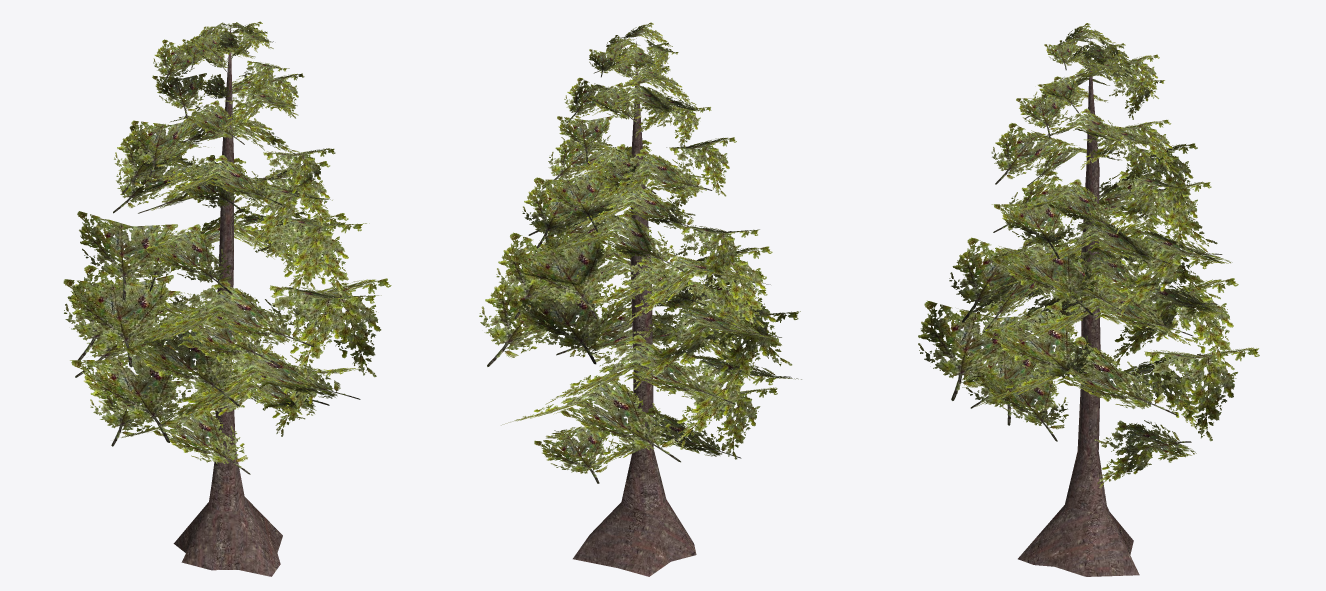
File: trees_ftree04_ftree04.glb
3 views of the same model, side by side, from view 1: azimuth 30°, elevation 25°; view 2: azimuth 150°, elevation 25°; view 3: azimuth 270°, elevation 25° (orthographic). The views are drawn at different scales.
Visible parts, largest first — view 1: ftree04; view 2: ftree04; view 3: ftree04.
Part boxes in pixels (left/top/right/bottom): ftree04: left=63, top=21, right=391, bottom=576; ftree04: left=479, top=22, right=801, bottom=576; ftree04: left=918, top=23, right=1259, bottom=576.
Size of the model in its own units: 11.04 by 14.62 by 10.92.
2 materials, 2 textured.
